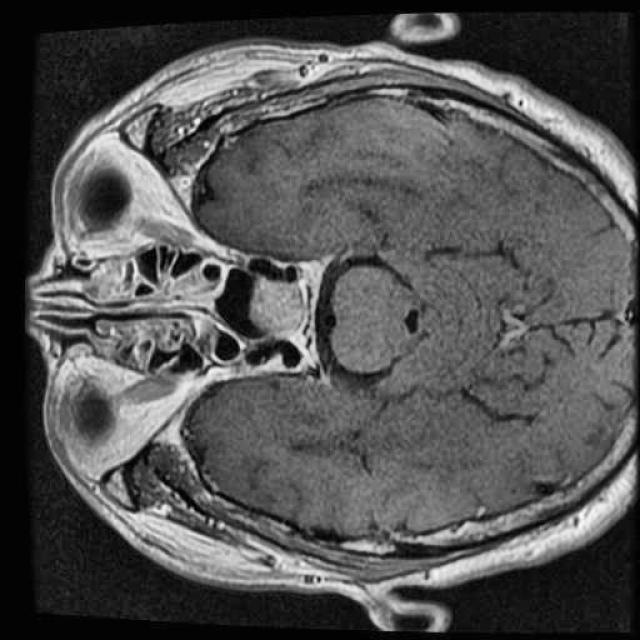Tumor: (243, 269, 312, 351)
